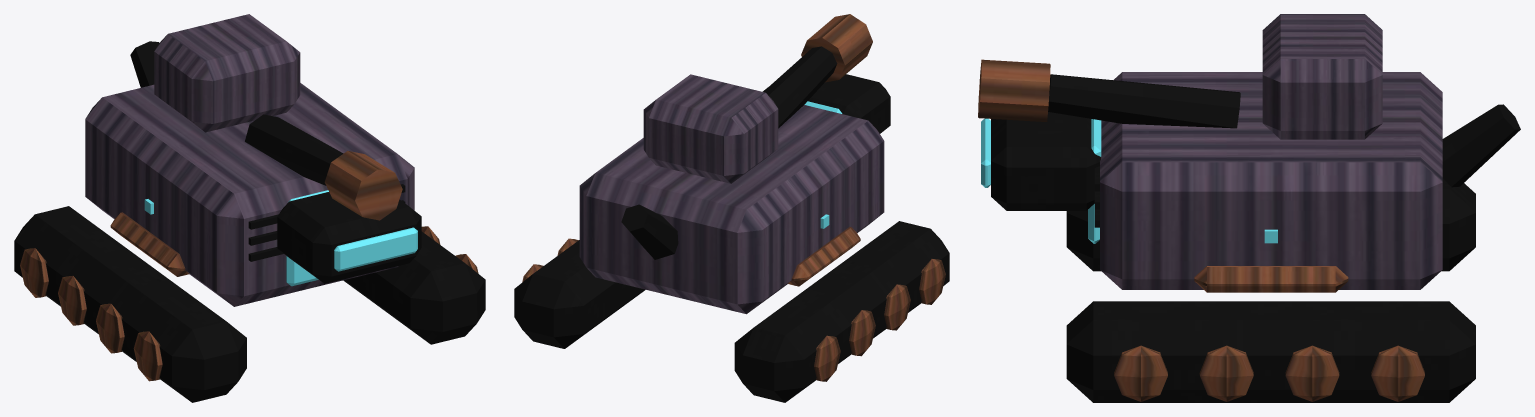
The model's file is boss_09.glb.
3 views of the same model, side by side, from view 1: azimuth 30°, elevation 25°; view 2: azimuth 150°, elevation 25°; view 3: azimuth 270°, elevation 25° (orthographic). The views are drawn at different scales.
Visible parts, largest first — view 1: boss_09; view 2: boss_09; view 3: boss_09.
Boxes of the visible parts, <box> form: boss_09: <box>14,14,485,402</box>; boss_09: <box>514,14,949,402</box>; boss_09: <box>978,14,1520,402</box>.
Bounding box in the file's own units: 1.86 × 1.39 × 2.34.
4 materials, 4 textured.
